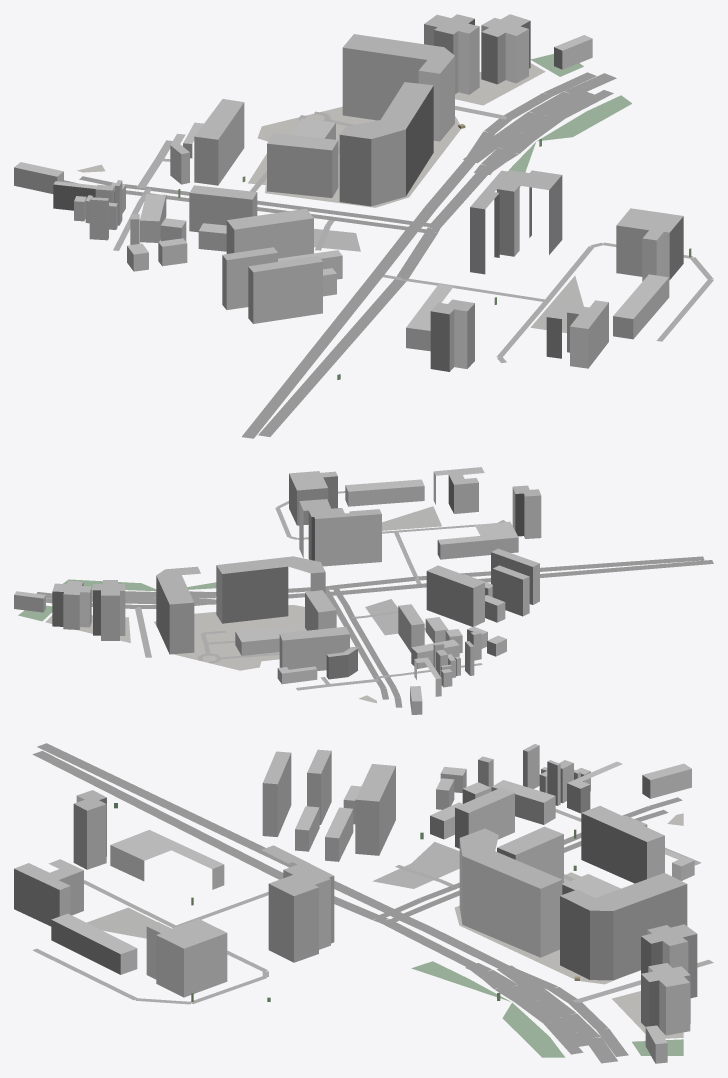
The picture shows the model from 3 angles, top to bottom: view 1: azimuth 30°, elevation 25°; view 2: azimuth 150°, elevation 25°; view 3: azimuth 270°, elevation 25°; orthographic projection. The views are drawn at different scales.
Size of the model in its own units: 601 by 62.67 by 549.
